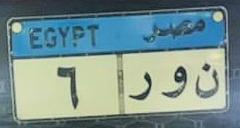6: (58, 65, 78, 108)
noon: (192, 59, 222, 100)
raa: (130, 70, 156, 102)
waw: (164, 65, 187, 100)
